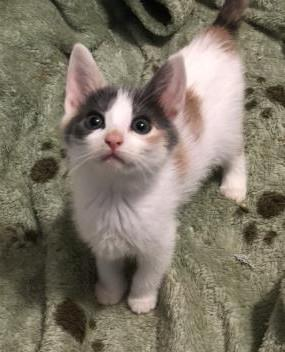ragdoll: (59, 40, 195, 202)
